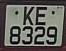2: (34, 25, 47, 46)
3: (21, 25, 35, 45)
8: (8, 25, 22, 46)
9: (47, 25, 59, 45)
F: (35, 5, 49, 28)
K: (21, 7, 36, 26)
